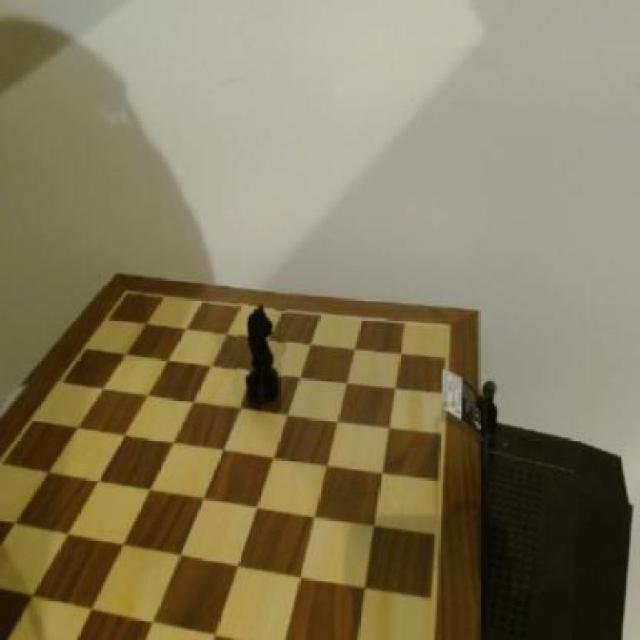black-king: (237, 303, 286, 409)
